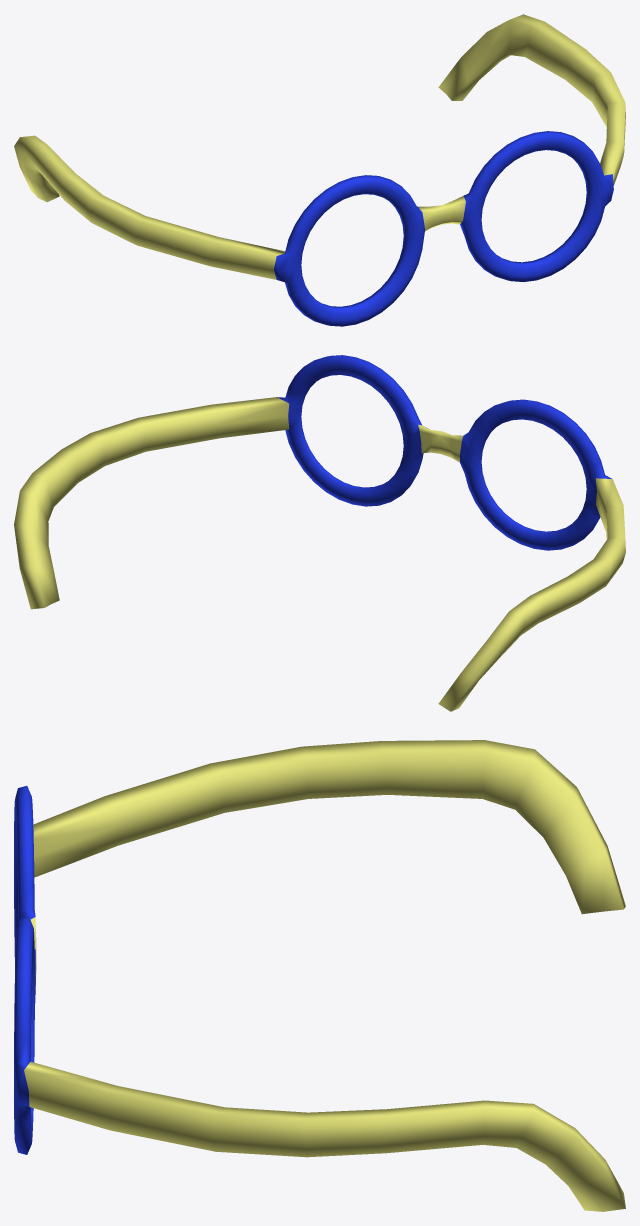
File: Glasses_Ello.fbx
The picture shows the model from 3 angles, top to bottom: view 1: azimuth 30°, elevation 25°; view 2: azimuth 150°, elevation 25°; view 3: azimuth 270°, elevation 25°; orthographic projection. The views are drawn at different scales.
Parts seen in each view (by area): view 1: Glasses_Ello; view 2: Glasses_Ello; view 3: Glasses_Ello.
Boxes of the visible parts, x1,y1,x2,y2 form: Glasses_Ello: (14, 14, 625, 326); Glasses_Ello: (14, 355, 625, 711); Glasses_Ello: (14, 740, 625, 1211).
Bounding box in the file's own units: 3.86 × 1.03 × 2.64.
